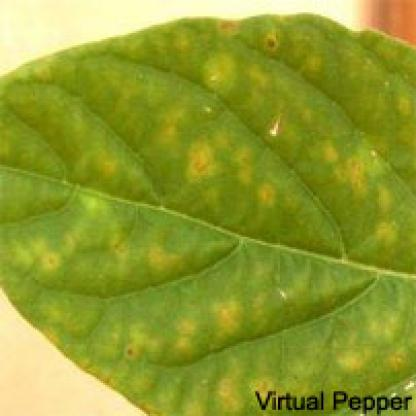bell pepper leaf spot: (2, 19, 412, 389)
